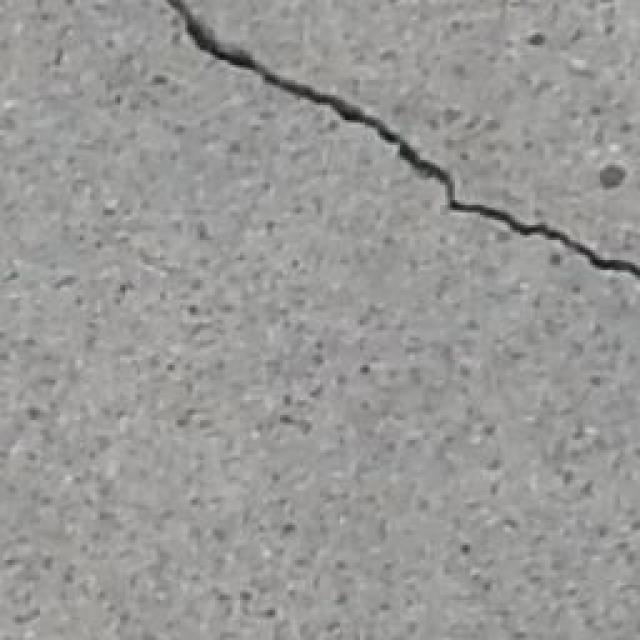concrete-crack: (166, 0, 640, 289)
